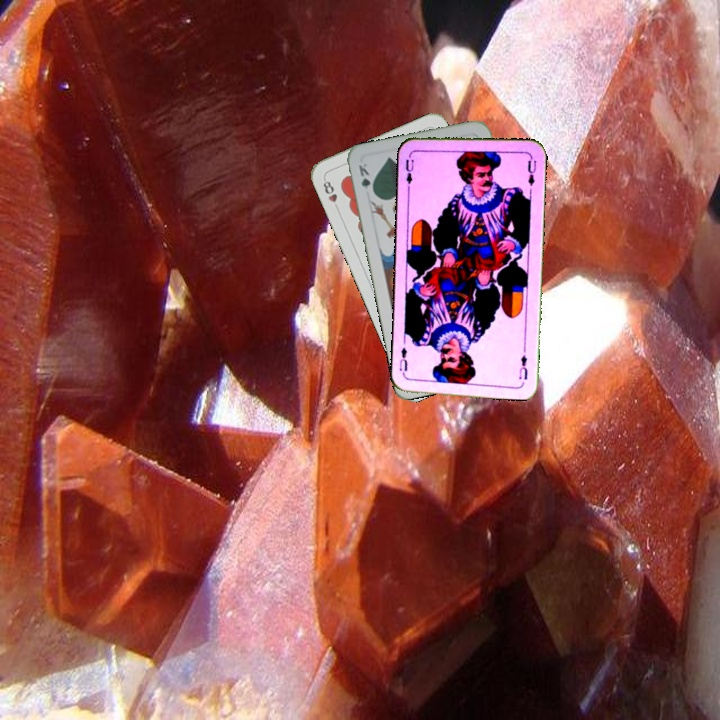EU: (402, 155, 418, 191), (515, 350, 530, 382)
GK: (354, 159, 377, 197)
H8: (319, 174, 342, 213)
